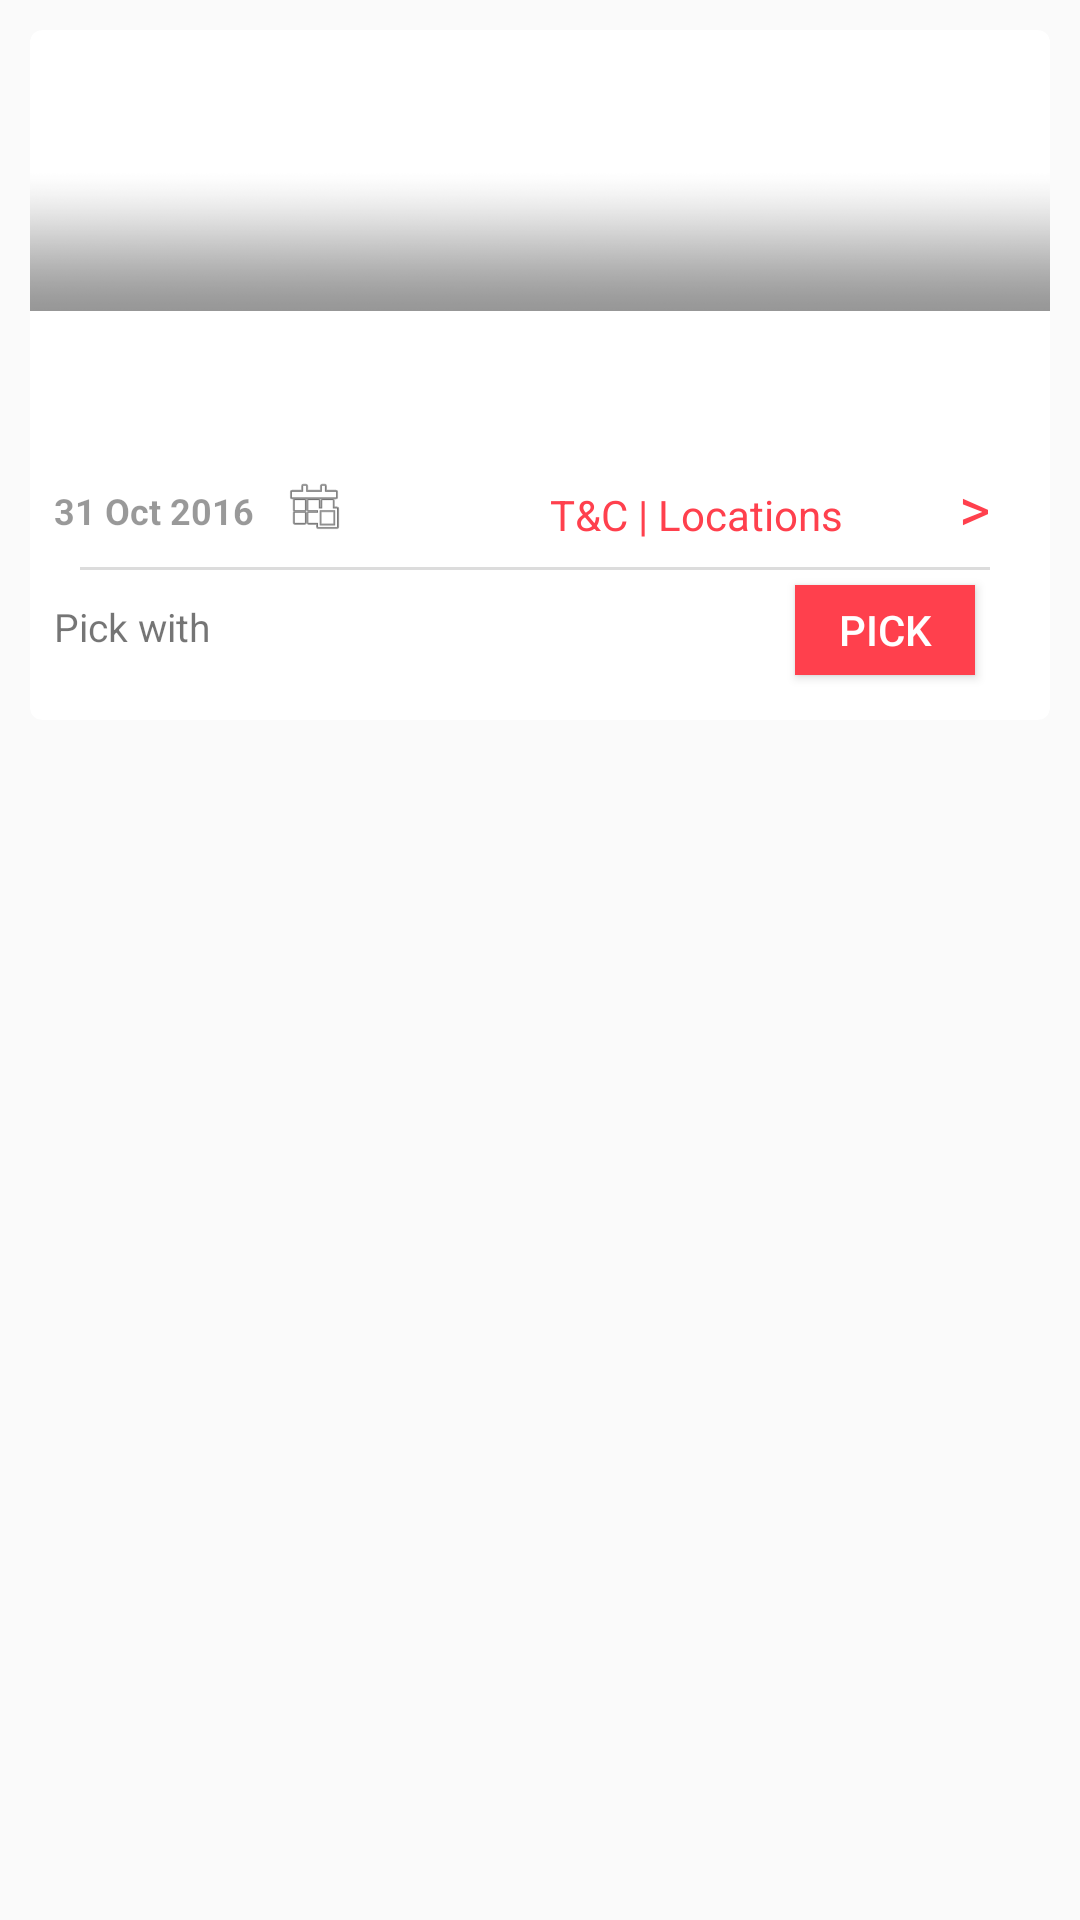

Where icons sit on this 1080x1920 app screen, as (x1, y1, x2, y2):
today: (290, 484, 339, 529)
